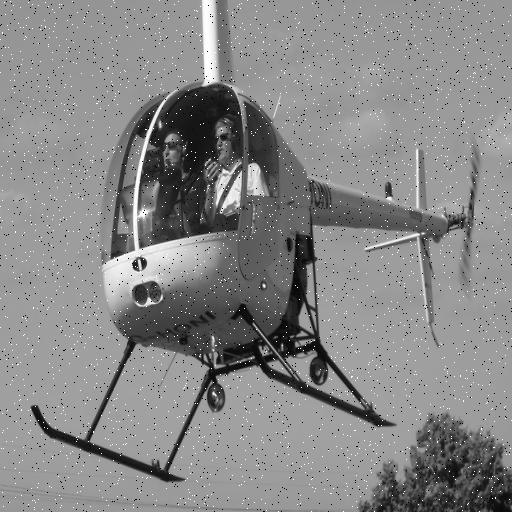helicopter: (1, 1, 512, 491)
